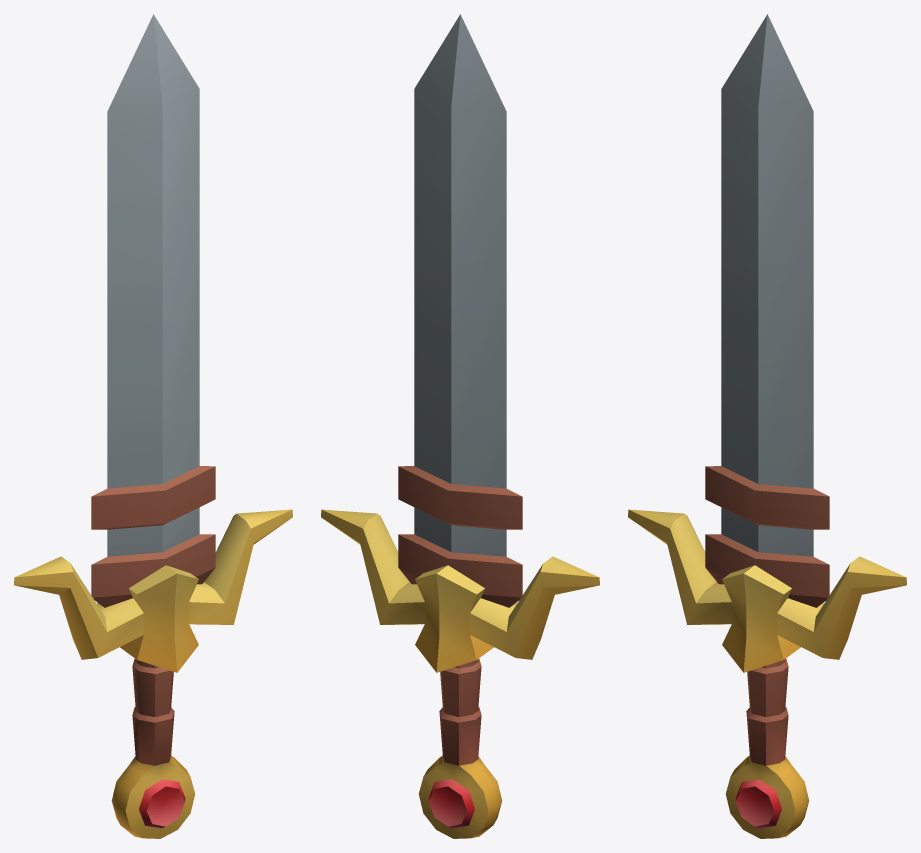
File: sword_2handed_color.glb
3 views of the same model, side by side, from view 1: azimuth 30°, elevation 25°; view 2: azimuth 150°, elevation 25°; view 3: azimuth 330°, elevation 25° (orthographic).
Visible parts, largest first — view 1: sword_2handed_color; view 2: sword_2handed_color; view 3: sword_2handed_color.
Boxes of the visible parts, left/top/right/bottom form: sword_2handed_color: left=14, top=14, right=292, bottom=838; sword_2handed_color: left=321, top=14, right=599, bottom=838; sword_2handed_color: left=628, top=14, right=906, bottom=838.
Size of the model in its own units: 0.839 by 2.37 by 0.2481.
Materials: 1 (1 with a texture image).
